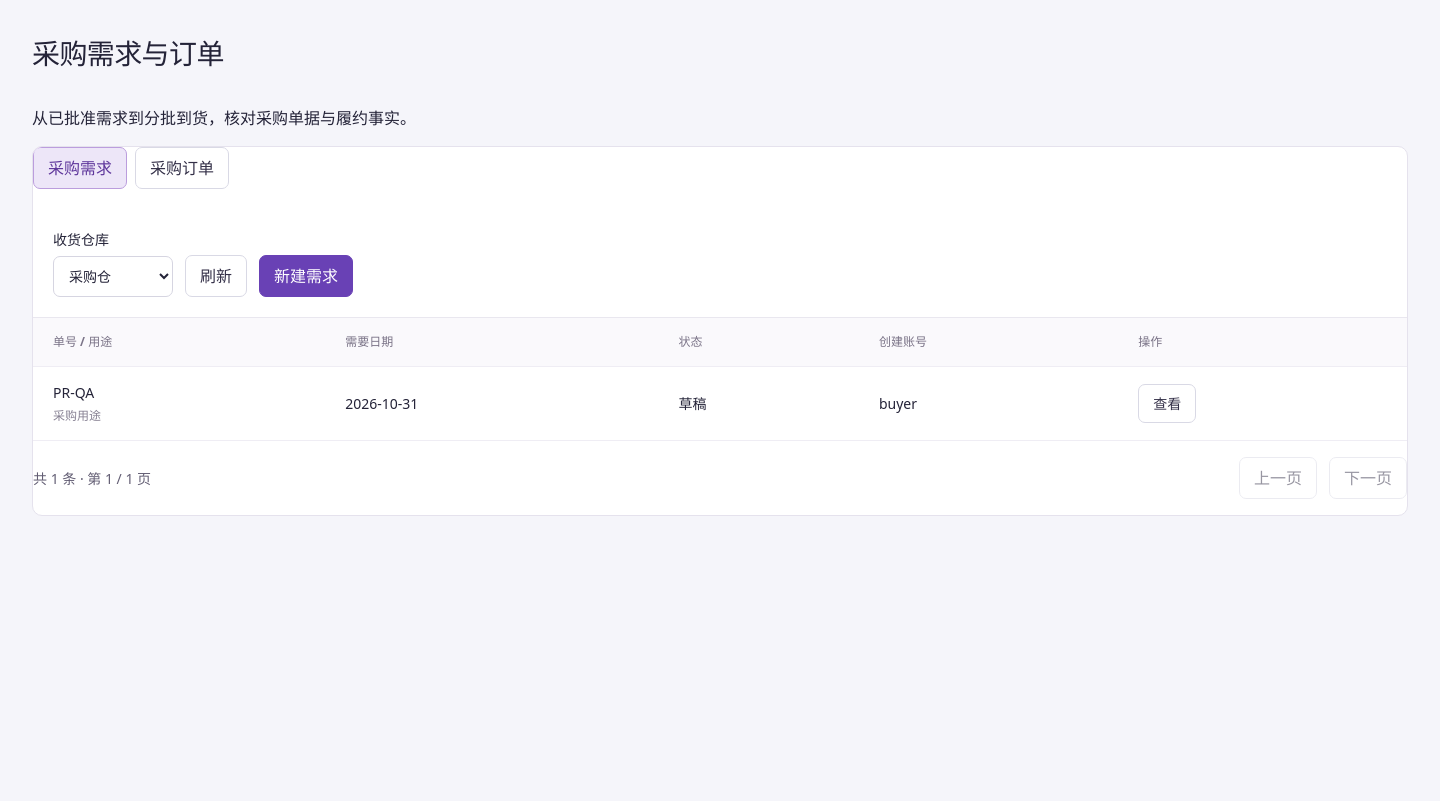
Test: submits closure with the original parent version and preserves an uncertain result
The width and height of the screenshot is (1440, 801).
Click the button "查看" at coordinates (1167, 404), box x1=1138 y1=384 x2=1196 y2=423
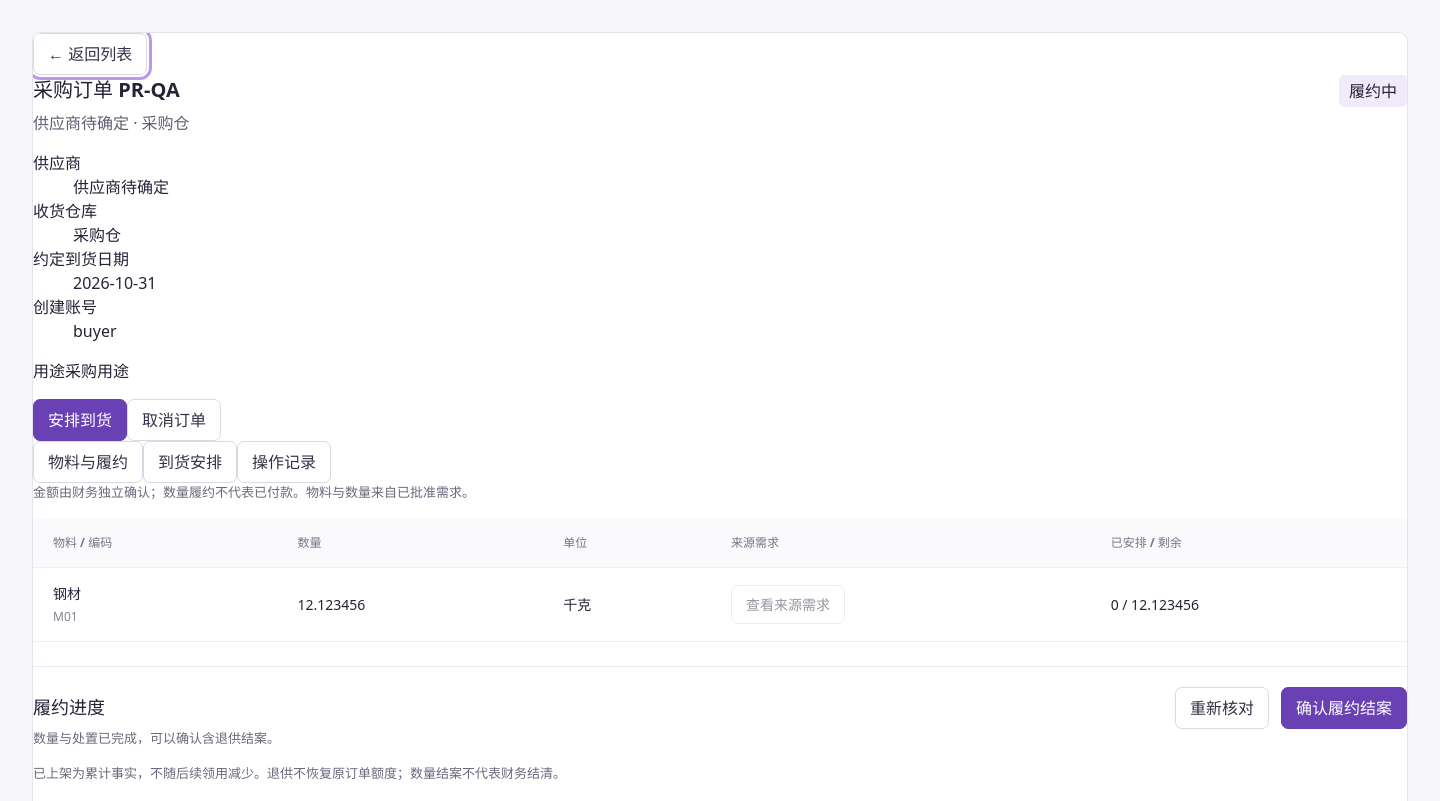
Click the button "确认履约结案" at coordinates (1344, 708), box x1=1281 y1=686 x2=1407 y2=728
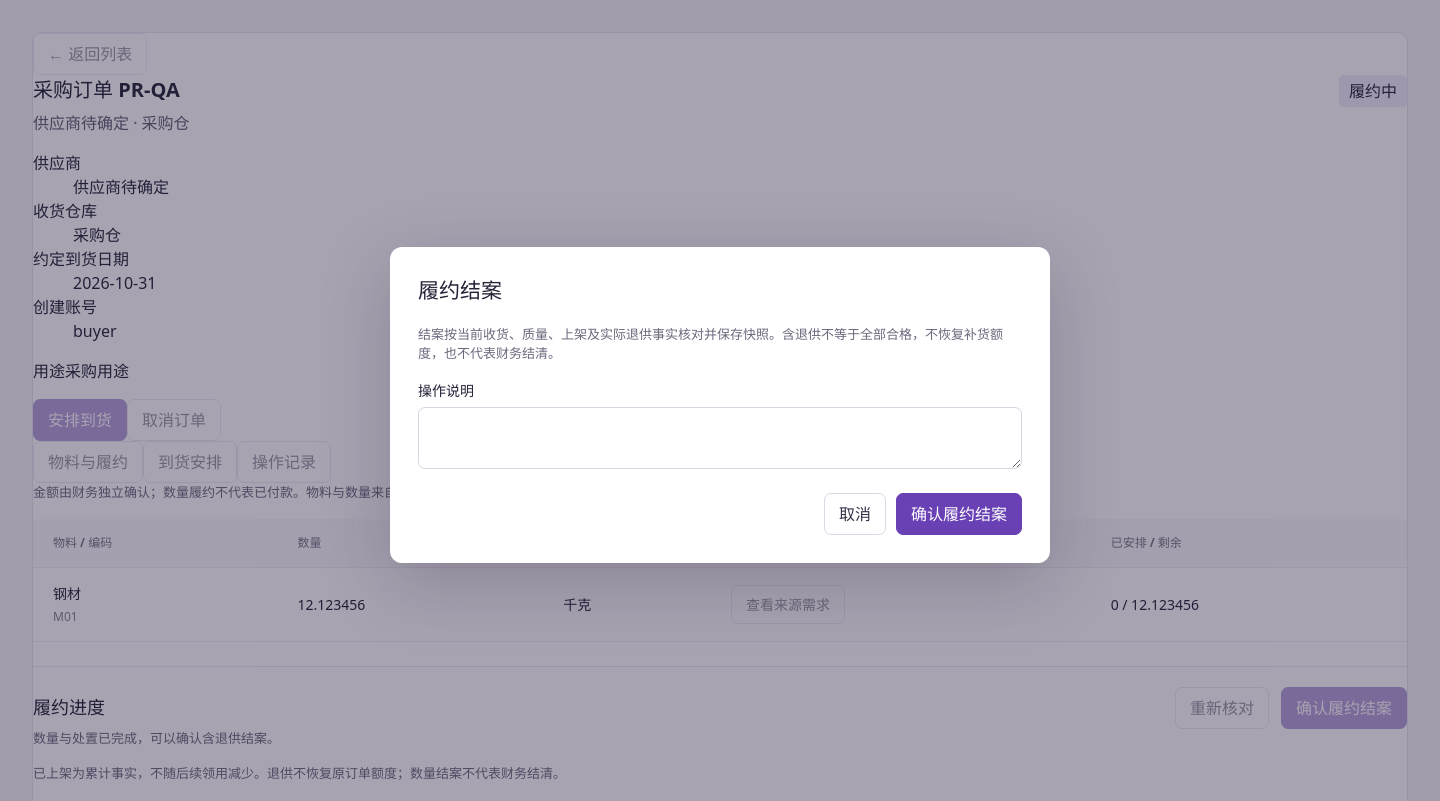
Type "已完成实物交接" into the text box labelled "操作说明" at coordinates (720, 438), box x1=418 y1=407 x2=1022 y2=469
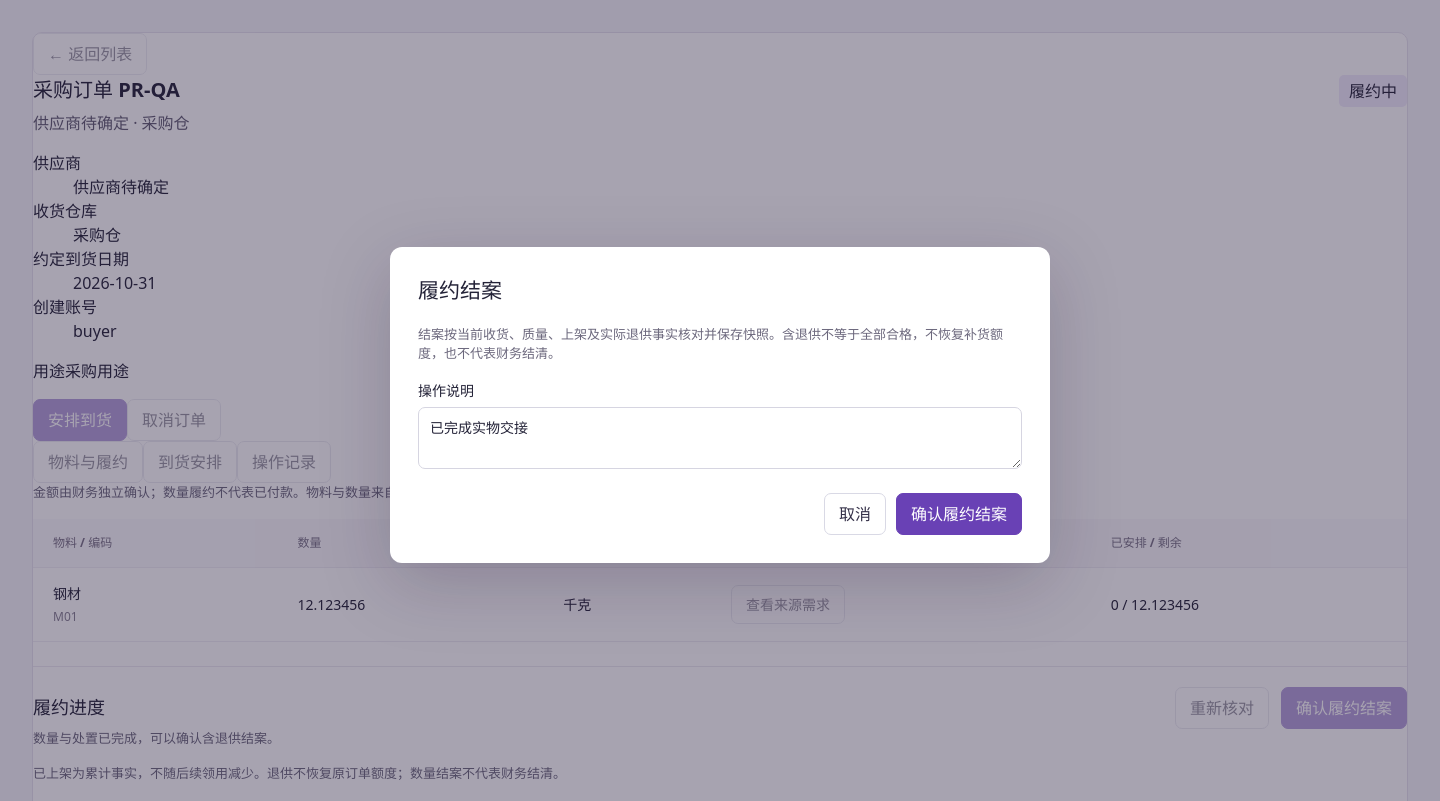
Submit the form, box x1=418 y1=380 x2=1022 y2=535
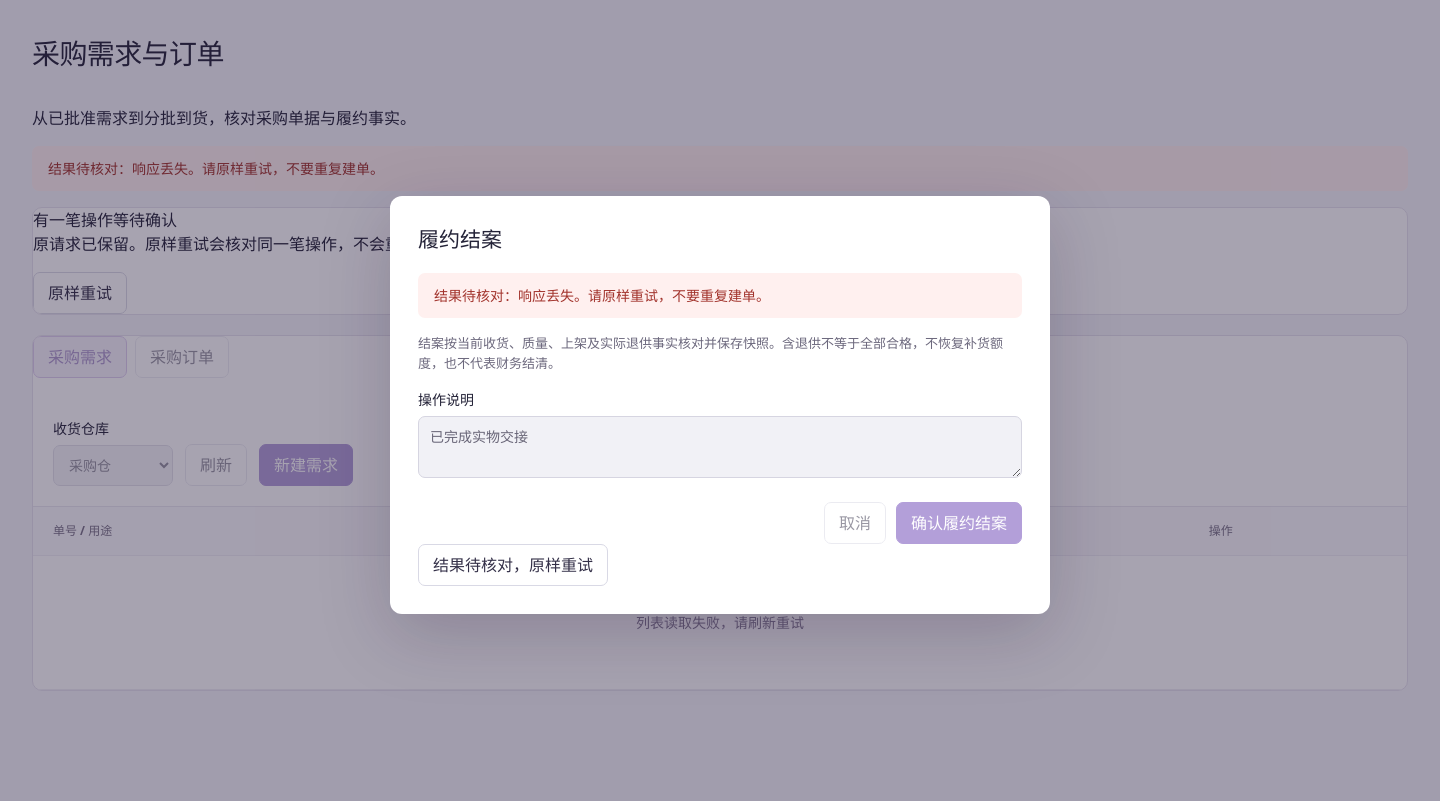
expect the text "结果待核对" is shown: met, box x1=48 y1=159 x2=384 y2=178
expect the element showing "操作说明 取消 确认履约结案" is disabled: met, box x1=418 y1=389 x2=1022 y2=544
